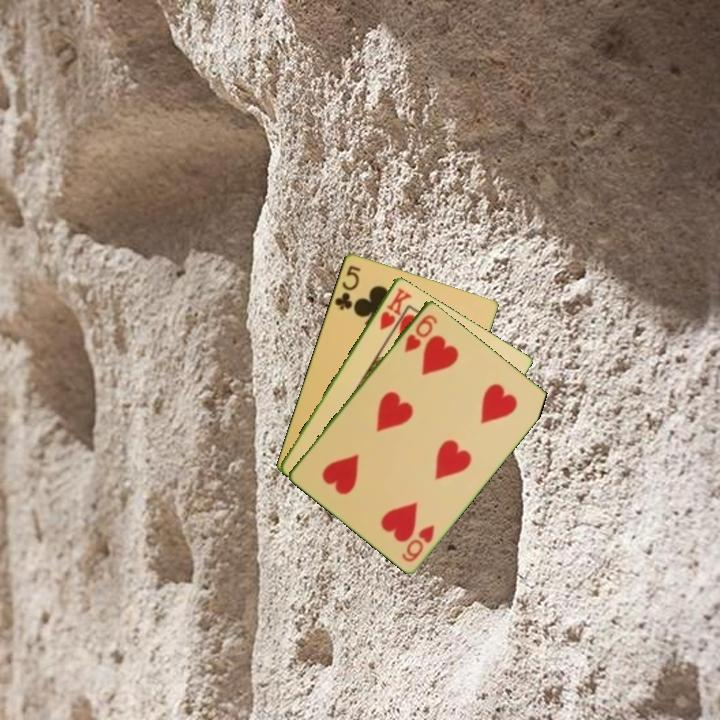5c: (331, 261, 363, 313)
6h: (401, 310, 440, 355), (398, 521, 437, 565)
Kh: (376, 284, 414, 333)
